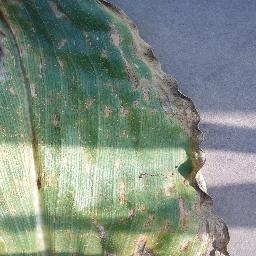Gray_Leaf_Spot: (178, 131, 236, 256), (160, 27, 203, 137), (132, 9, 177, 114), (11, 127, 52, 184), (105, 0, 138, 66), (128, 163, 188, 198), (82, 90, 137, 125), (117, 205, 182, 231), (0, 0, 26, 60), (110, 165, 133, 217), (47, 33, 72, 78), (78, 213, 115, 243), (31, 42, 49, 98), (59, 146, 96, 173), (125, 231, 162, 256), (29, 166, 59, 194), (4, 81, 31, 100), (46, 115, 68, 138), (45, 0, 70, 17)
